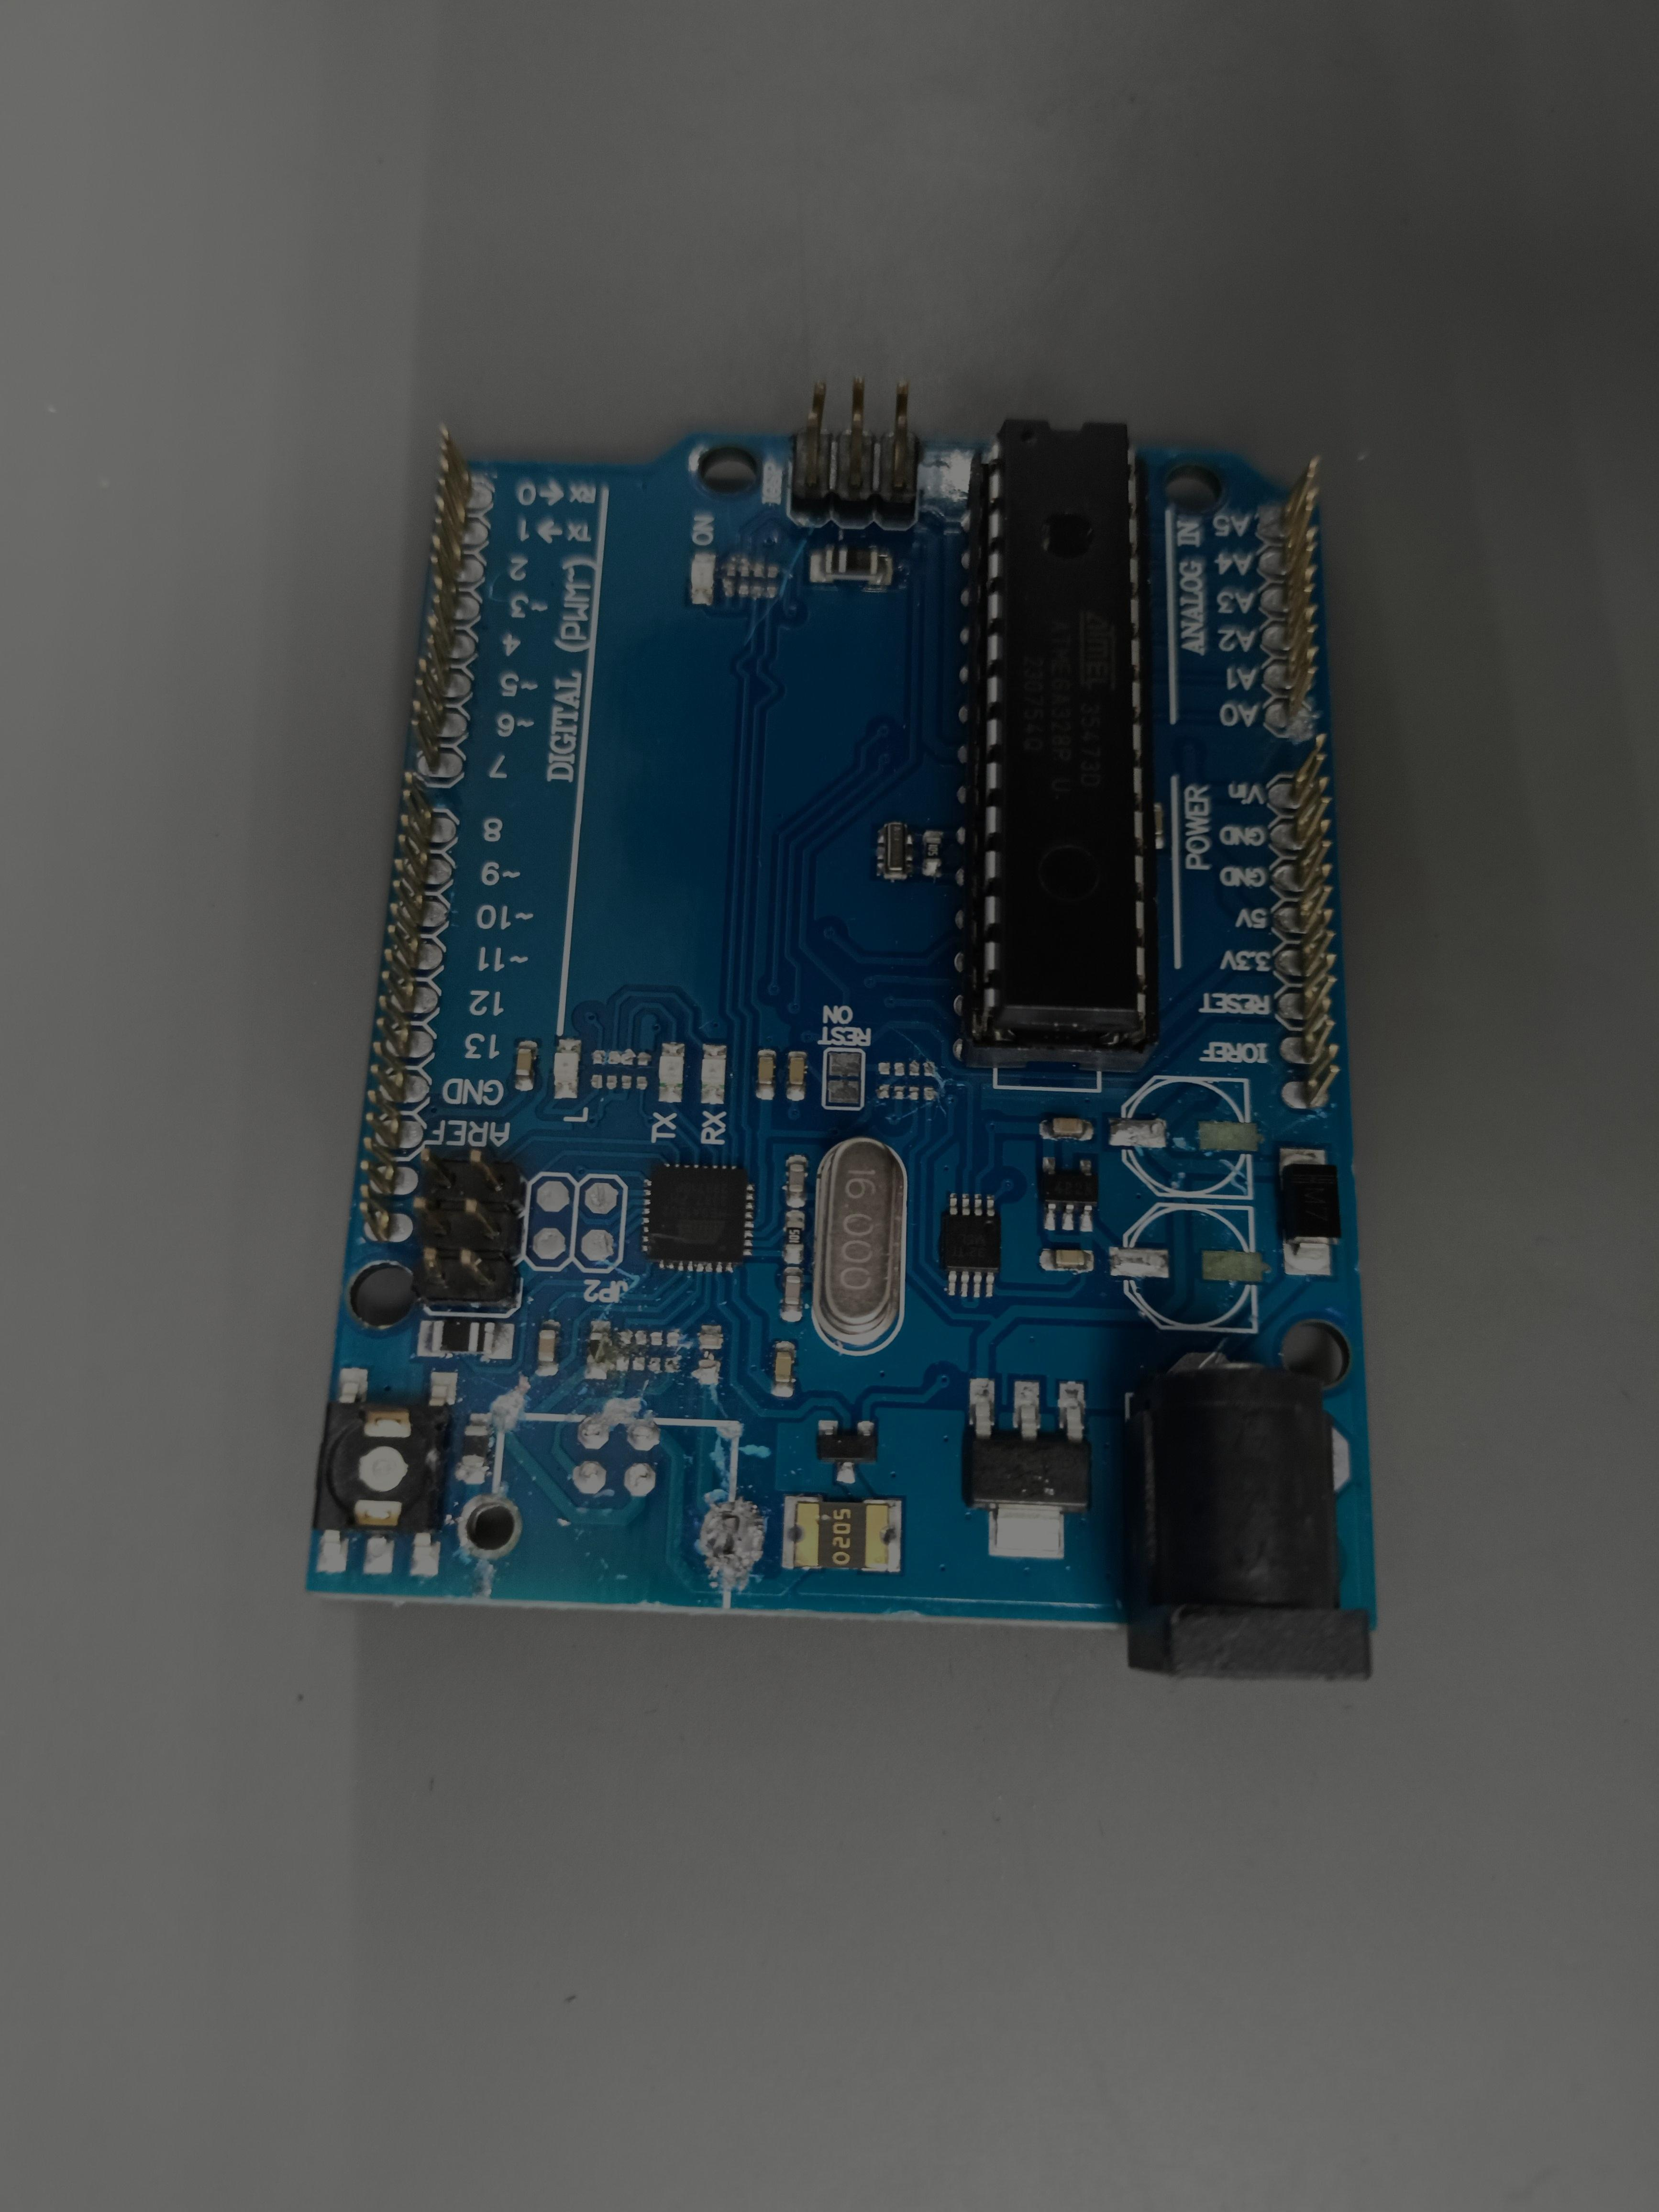ATmega328 chip: (960, 418, 1159, 1073)
Arduino board: (305, 374, 1378, 1681)
